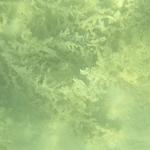dead: (7, 1, 148, 145)
